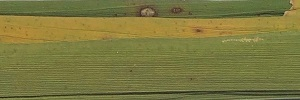RiceBlast: (122, 3, 189, 19), (190, 24, 207, 38)
